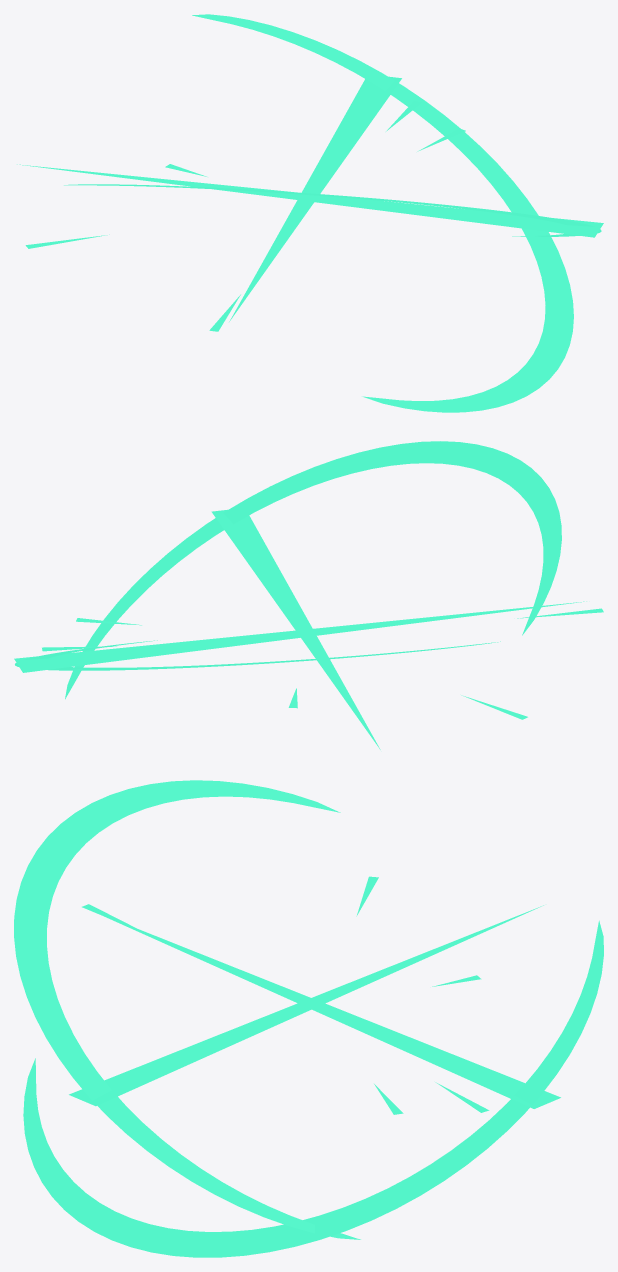
Rendered from Mes_CrossCut.glb.
3 views of the same model, one above another, from view 1: azimuth 30°, elevation 25°; view 2: azimuth 150°, elevation 25°; view 3: azimuth 270°, elevation 25° (orthographic). The views are drawn at different scales.
Parts seen in each view (by area): view 1: Mes_CrossCut_Blade1, Mes_CrossCut_CrossB, Mes_CrossCut_CrossA, Mes_CrossCut_Blade-1; view 2: Mes_CrossCut_Blade-1, Mes_CrossCut_CrossA, Mes_CrossCut_CrossB, Mes_CrossCut_Blade1; view 3: Mes_CrossCut_Blade1, Mes_CrossCut_Blade-1, Mes_CrossCut_CrossB, Mes_CrossCut_CrossA.
Part boxes in pixels (bbox=[...]): Mes_CrossCut_Blade1: bbox=[192, 14, 573, 412]; Mes_CrossCut_CrossB: bbox=[17, 164, 603, 237]; Mes_CrossCut_CrossA: bbox=[229, 76, 401, 321]; Mes_CrossCut_Blade-1: bbox=[64, 184, 601, 236]; Mes_CrossCut_Blade-1: bbox=[65, 441, 561, 699]; Mes_CrossCut_CrossA: bbox=[14, 601, 586, 672]; Mes_CrossCut_CrossB: bbox=[211, 509, 380, 749]; Mes_CrossCut_Blade1: bbox=[15, 640, 500, 670]; Mes_CrossCut_Blade1: bbox=[23, 920, 603, 1257]; Mes_CrossCut_Blade-1: bbox=[14, 780, 360, 1239]; Mes_CrossCut_CrossB: bbox=[69, 905, 543, 1106]; Mes_CrossCut_CrossA: bbox=[84, 907, 560, 1108].
Size of the model in its own units: 0.00194 by 0.000956 by 0.00182.
